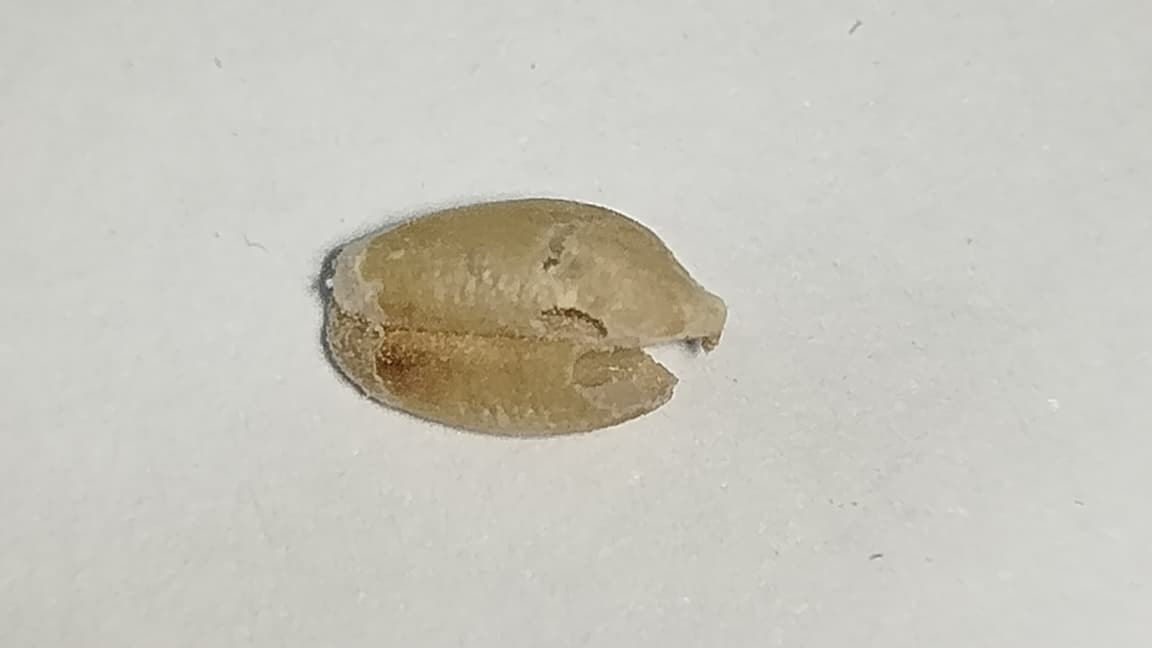damage: (326, 198, 725, 434)
insectdamage: (506, 198, 724, 406)
staindamage: (327, 298, 465, 417)
